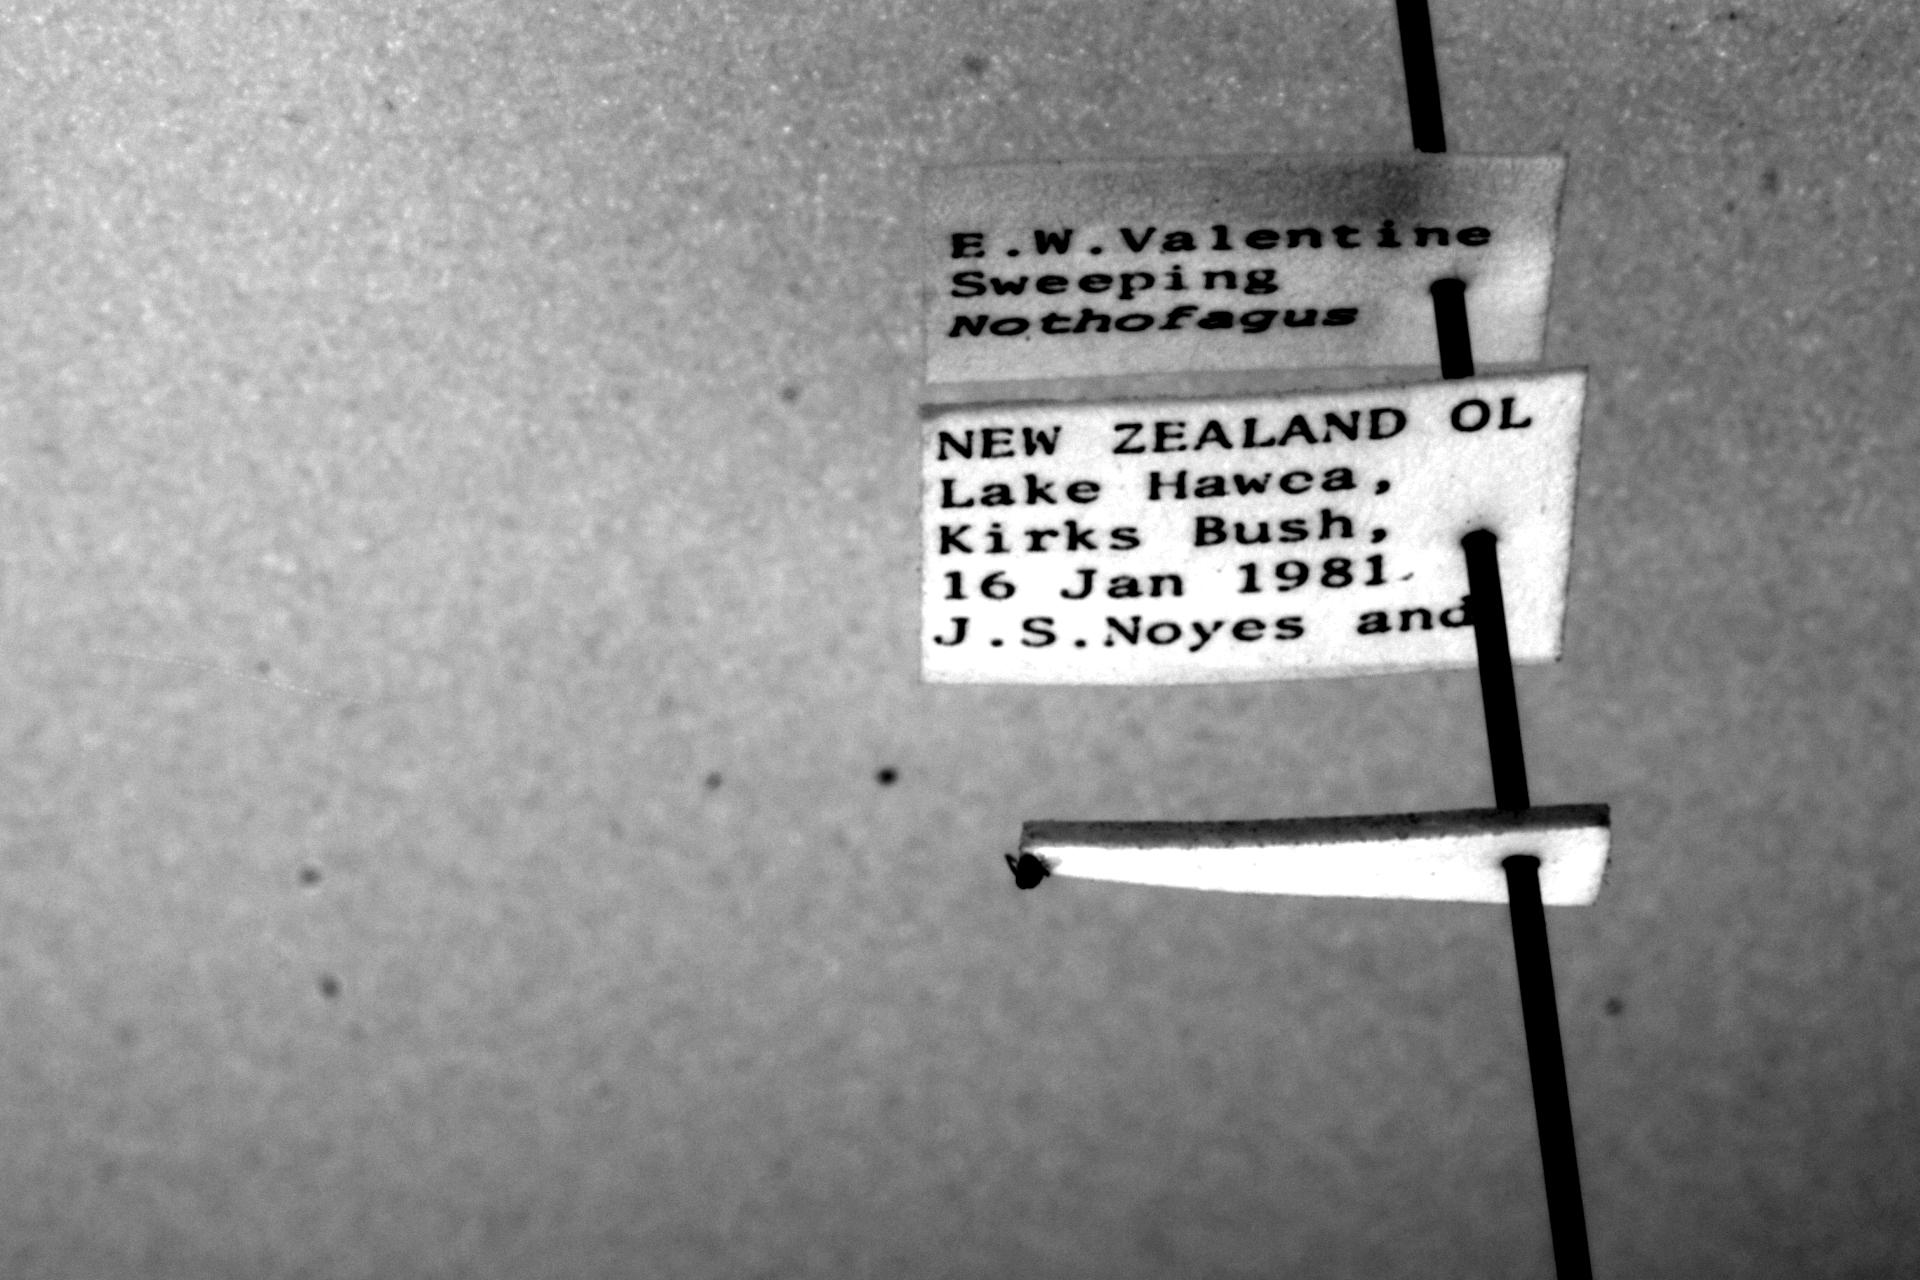typed_label: (923, 371, 1586, 683), (926, 154, 1567, 383)
